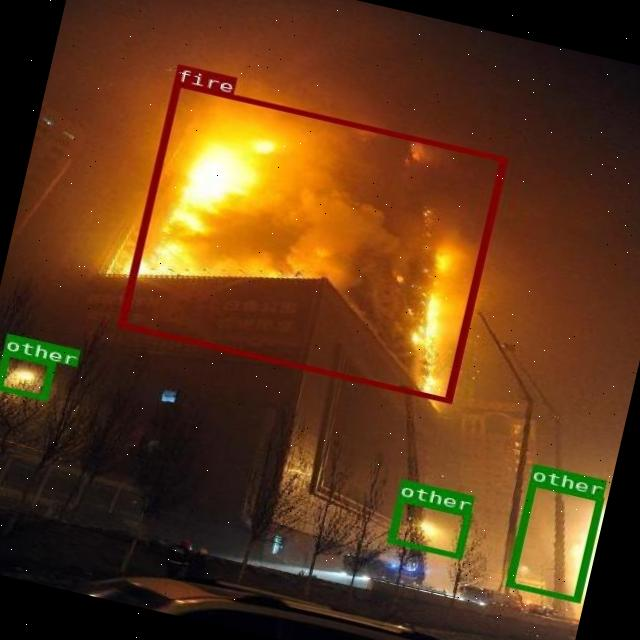fire: (117, 80, 506, 402)
